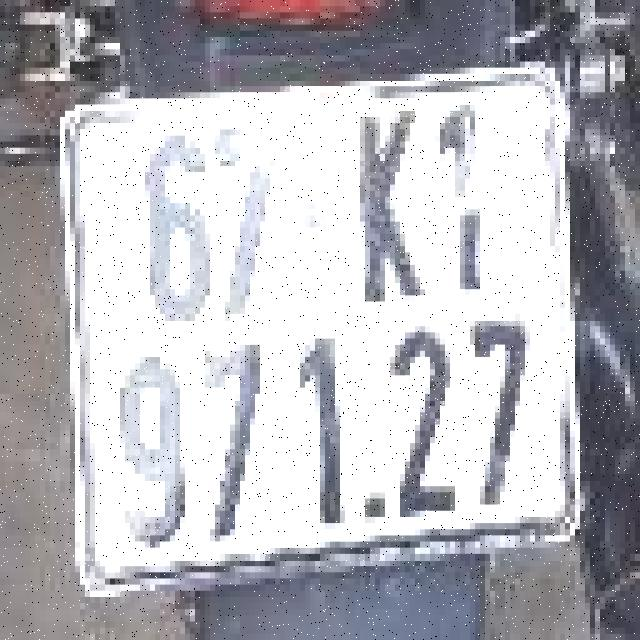1: (290, 329, 355, 545), (435, 95, 490, 298)
2: (382, 308, 458, 523)
6: (140, 123, 220, 332)
7: (458, 308, 542, 517), (195, 336, 270, 544), (215, 123, 280, 314)
9: (108, 345, 188, 566)
K: (345, 102, 430, 304)
